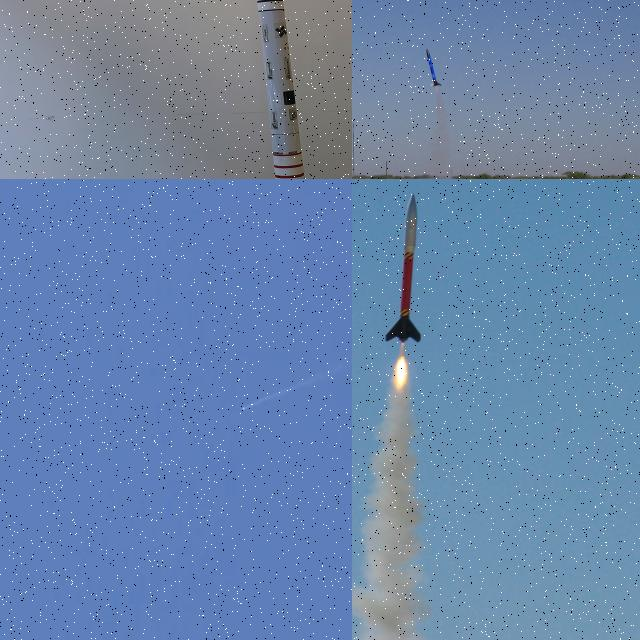Rocket: (257, 0, 305, 179), (385, 192, 422, 344), (425, 48, 442, 87), (242, 408, 244, 410)
